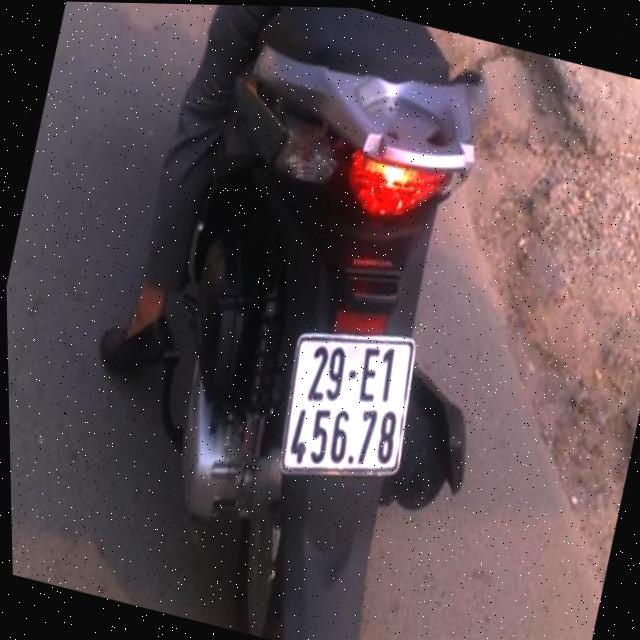motorcycle: (93, 2, 558, 640)
plate: (261, 302, 434, 504)
